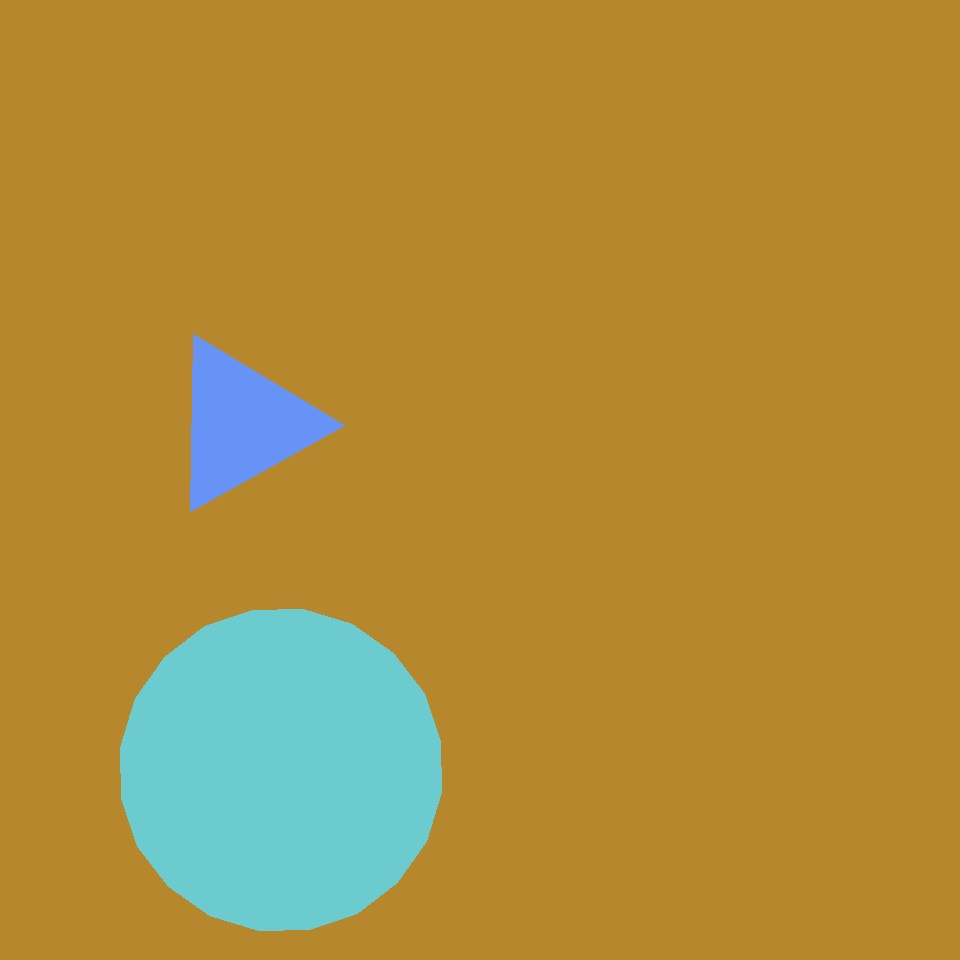circle: (166, 336, 320, 512)
triangle: (121, 610, 442, 930)
